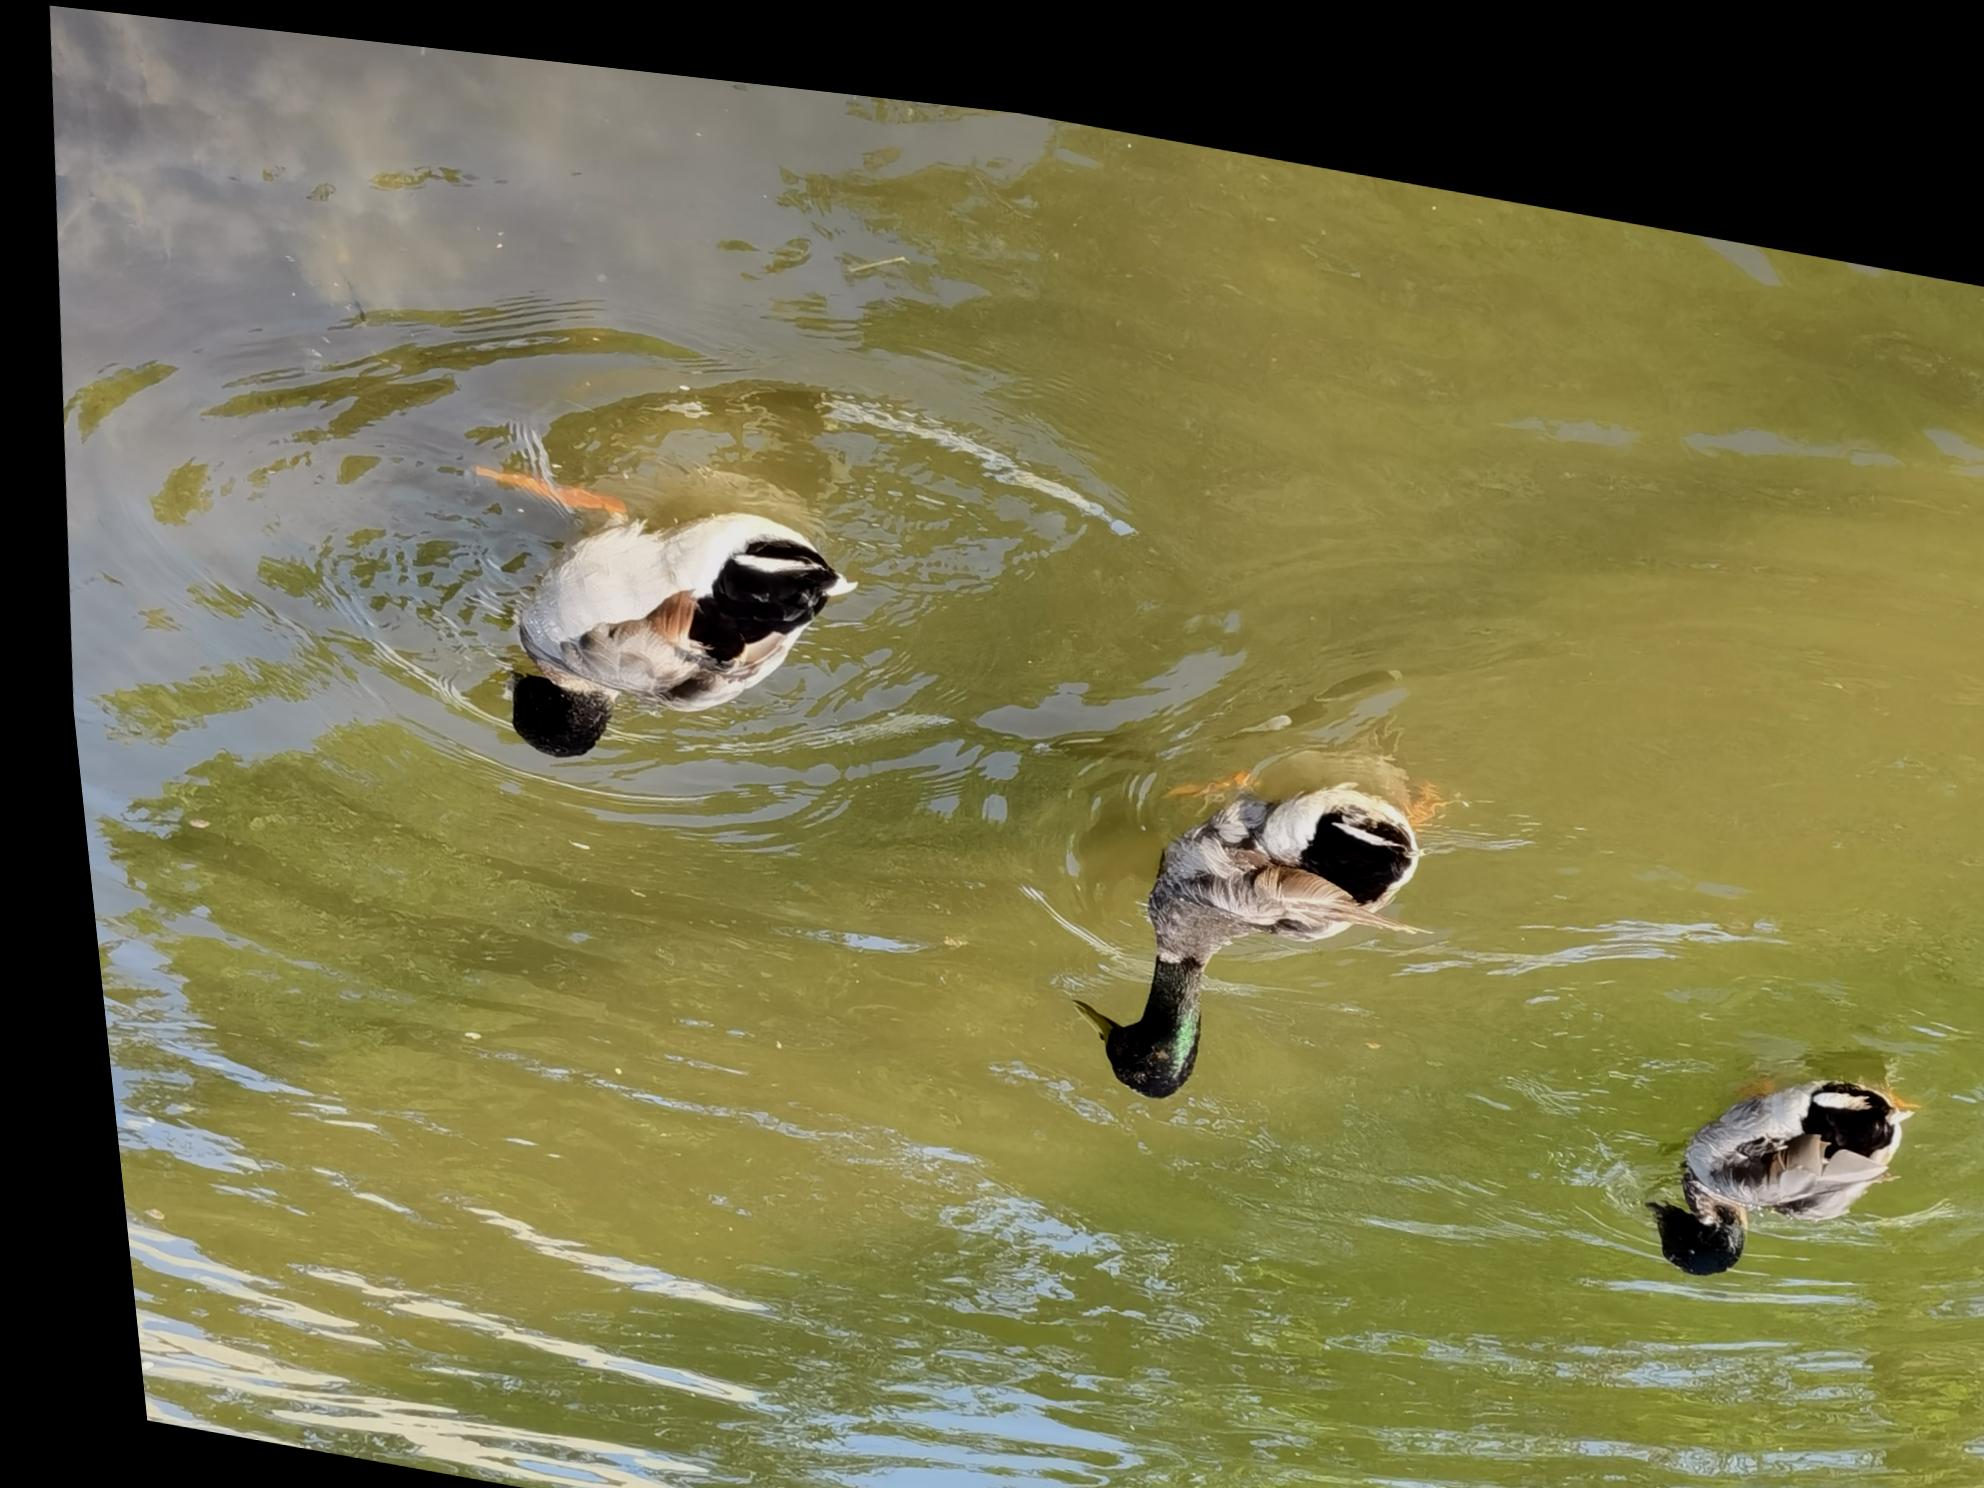duck: (1011, 679, 1472, 1137), (422, 419, 869, 800), (1584, 983, 1916, 1311)
